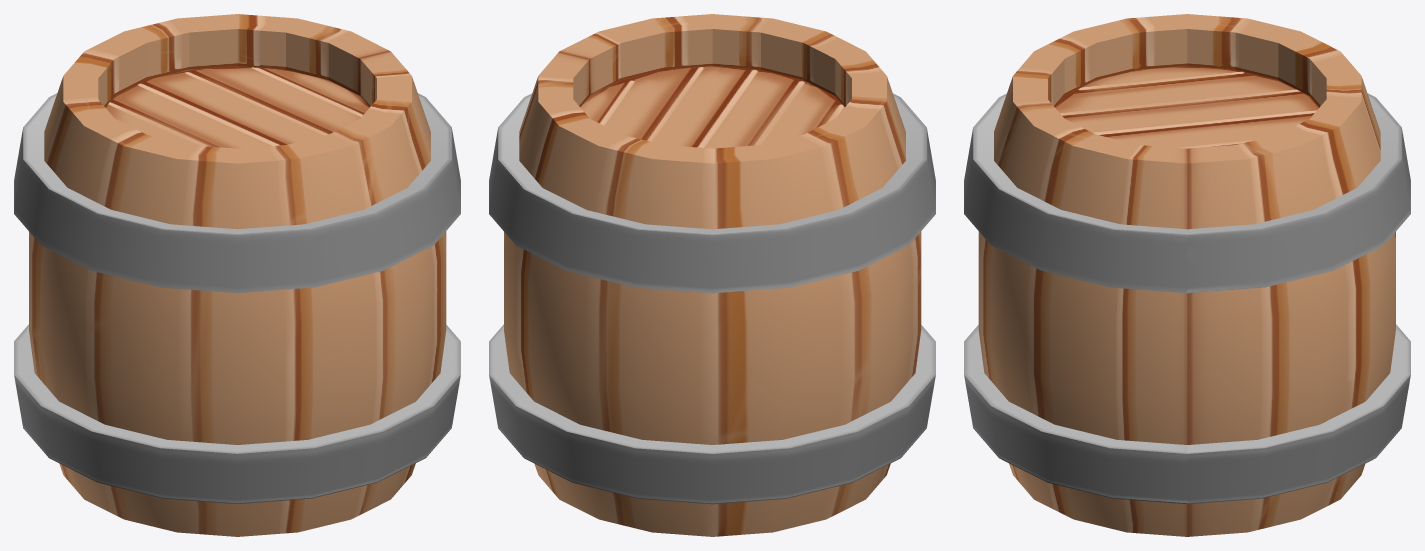
File: drums.FBX
3 views of the same model, side by side, from view 1: azimuth 30°, elevation 25°; view 2: azimuth 150°, elevation 25°; view 3: azimuth 270°, elevation 25° (orthographic).
Visible parts, largest first — view 1: Cylinder001; view 2: Cylinder001; view 3: Cylinder001.
Boxes of the visible parts, x1,y1,x2,y2 form: Cylinder001: (14,14,460,536); Cylinder001: (489,14,935,536); Cylinder001: (964,14,1410,536).
Size of the model in its own units: 1.54 by 1.4 by 1.52.
